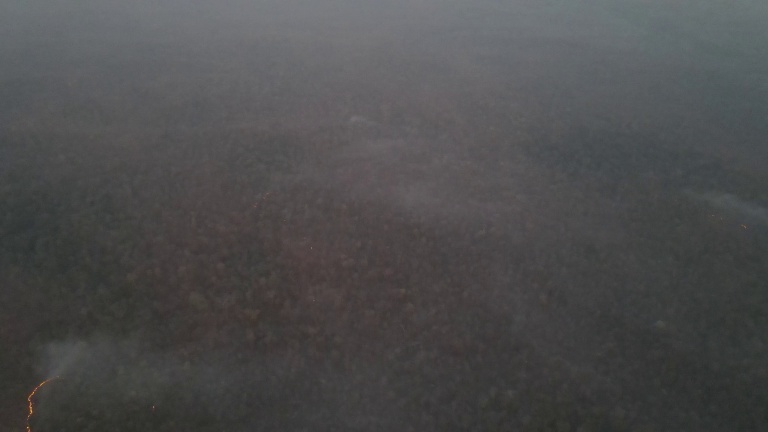fire: (17, 372, 62, 432), (704, 209, 748, 231), (246, 188, 275, 210), (149, 403, 161, 414)
smoke: (30, 335, 122, 385), (671, 181, 768, 221)
